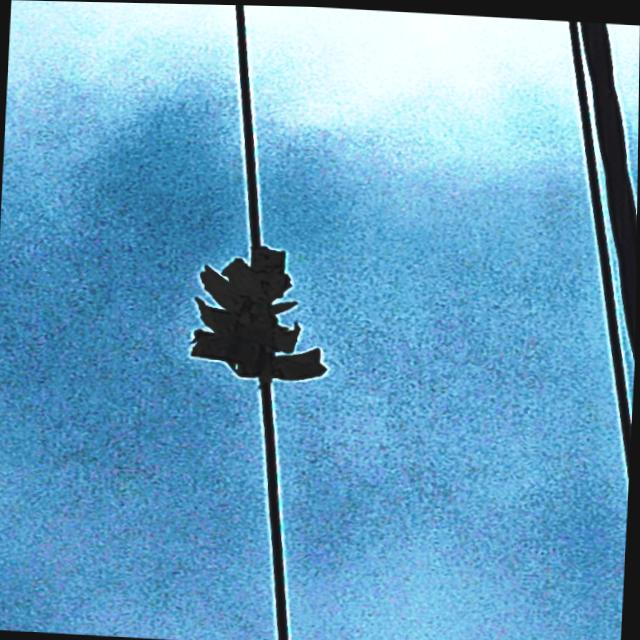obstruction: (181, 232, 344, 391)
wires: (560, 37, 637, 478), (185, 7, 268, 238), (261, 377, 307, 639)
